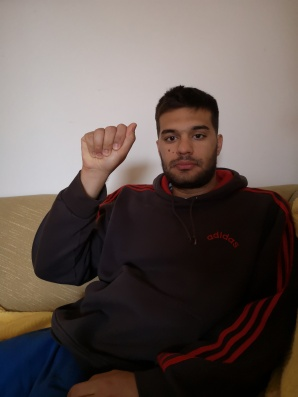A: (79, 121, 139, 173)
